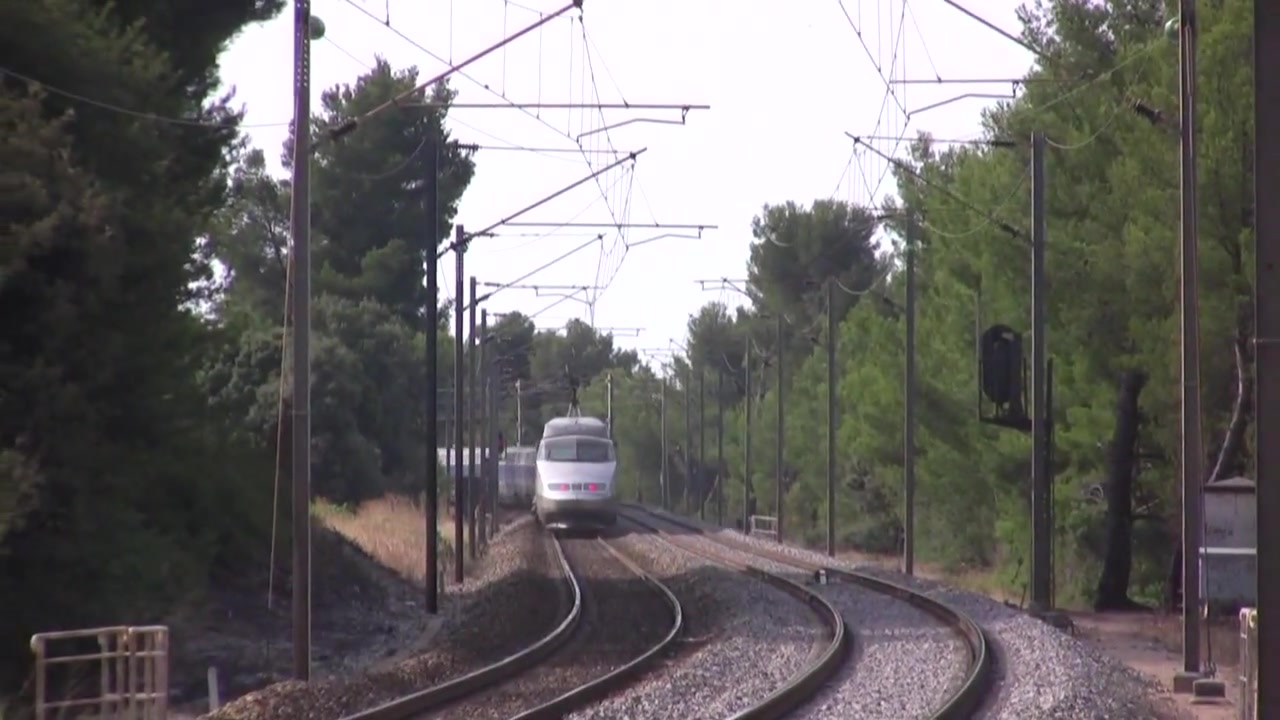train: (497, 408, 626, 540)
